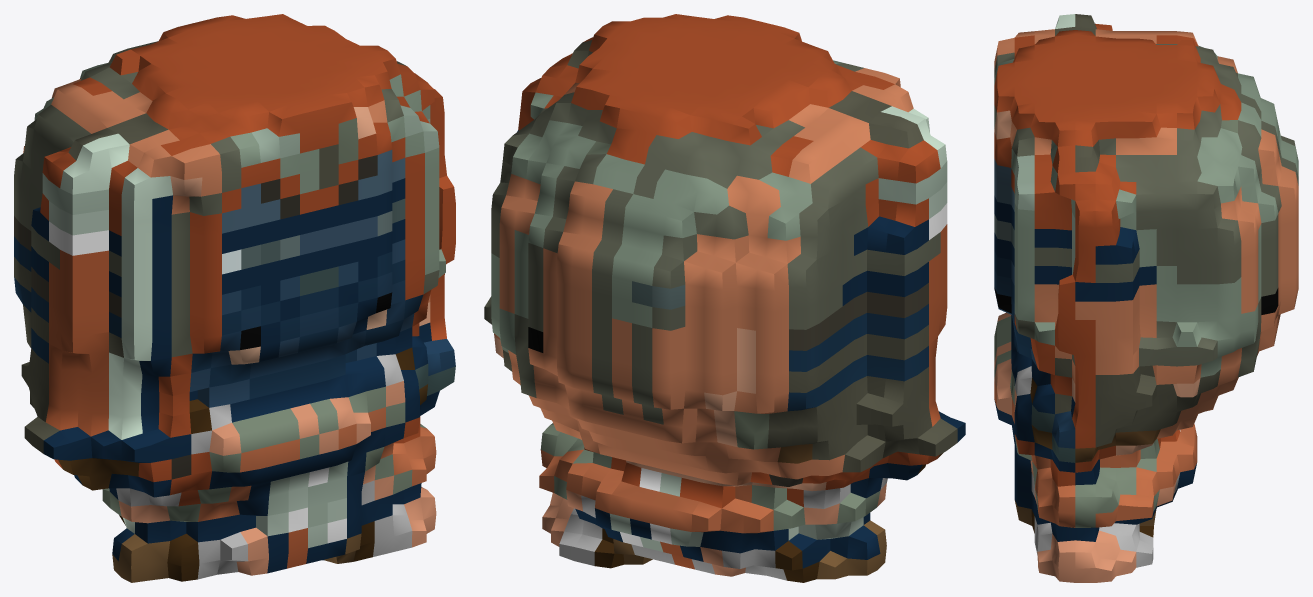
File: Icon_007_01.obj
3 renders of one model, left to right at view 1: azimuth 30°, elevation 25°; view 2: azimuth 150°, elevation 25°; view 3: azimuth 270°, elevation 25°, orthographic. The views are drawn at different scales.
Bounding box in the file's own units: 2.08 × 2.4 × 1.5.
